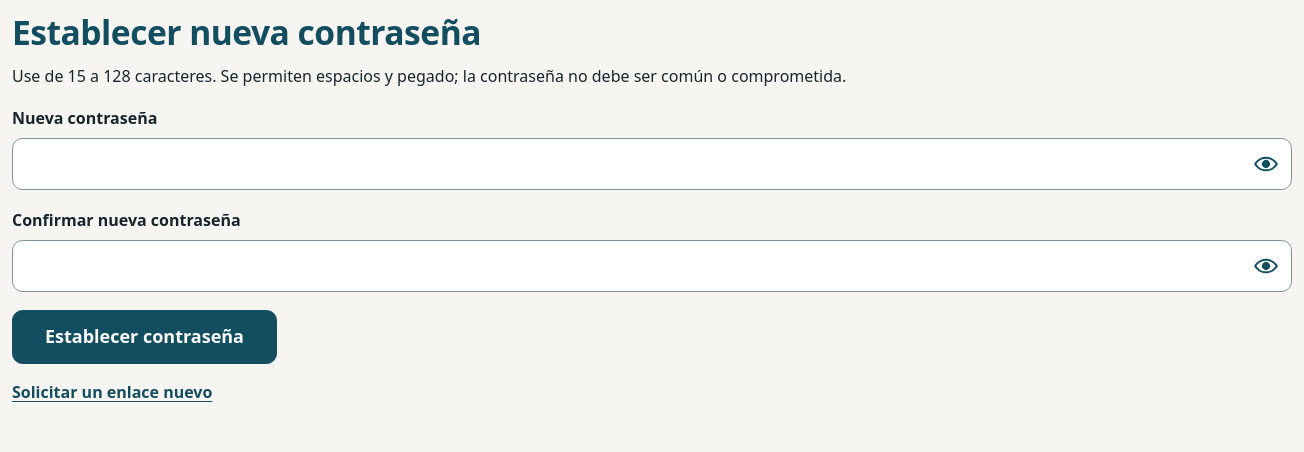
Test: CA-REC-10 confirmación distinta no envía ni anuncia éxito
This screenshot has width=1304, height=452.
Step 1. Type "nueva frase privada" into the password field labelled "Nueva contraseña" → (652, 164), box [12,138,1292,190]
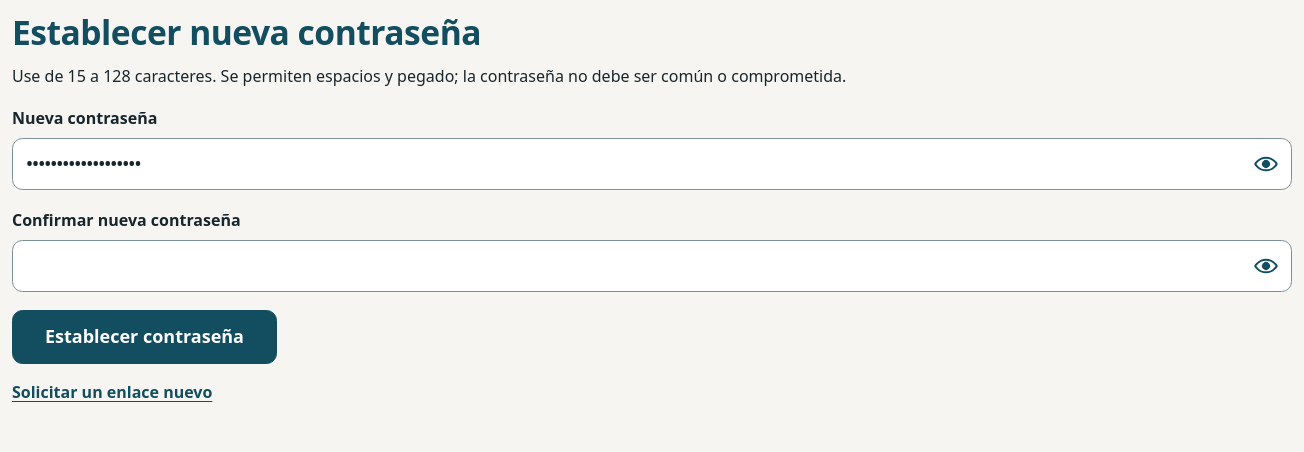
Step 2. Type "otra frase privada" into the password field labelled "Confirmar nueva contraseña" → (652, 266), box [12,240,1292,292]
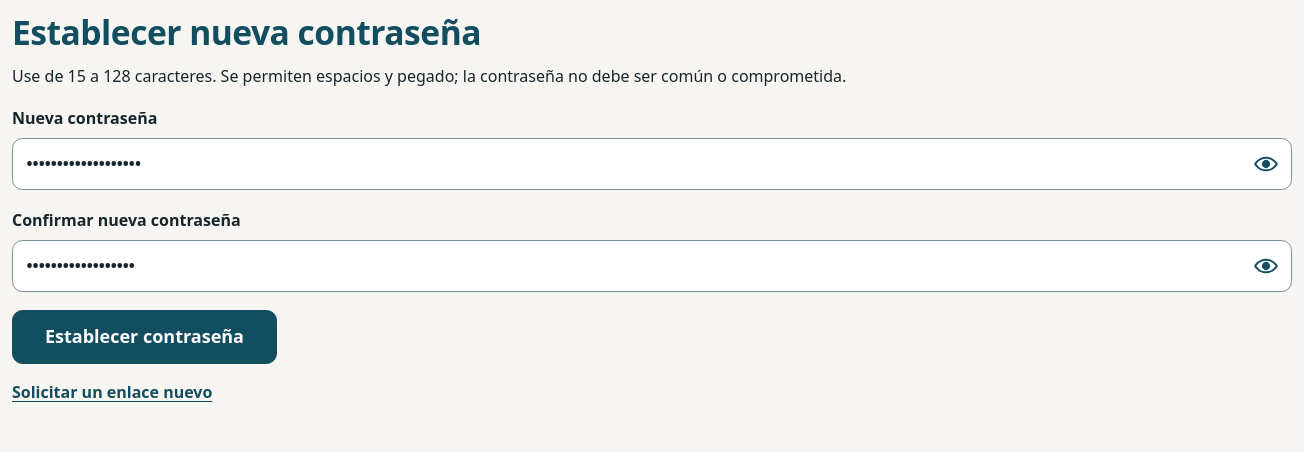
Step 3. Click the button "Establecer contraseña" → (144, 337), box [12,310,277,364]
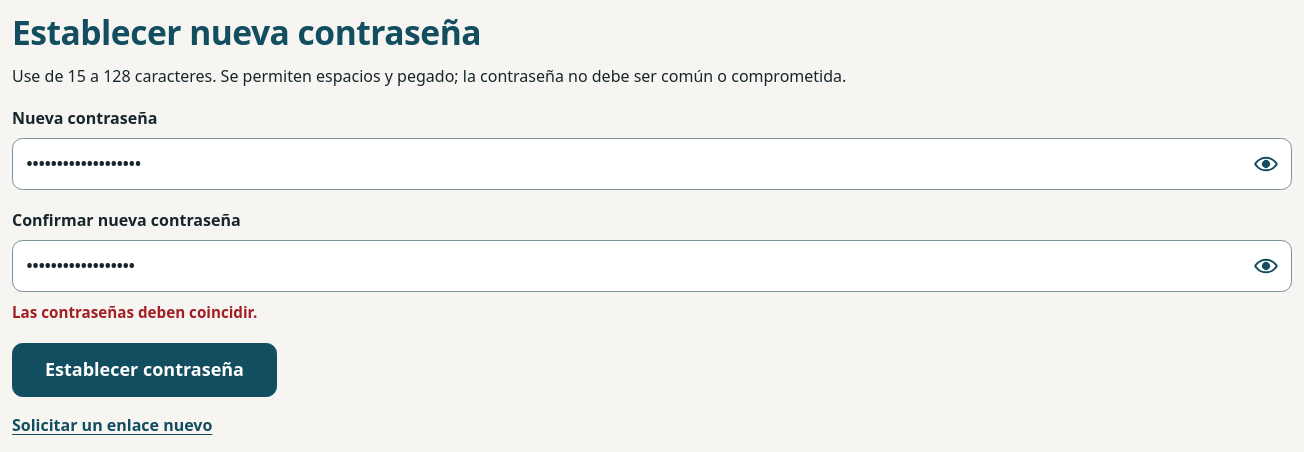
Result: the text "Las contraseñas deben coincidir." is shown at [12,302,257,322]
